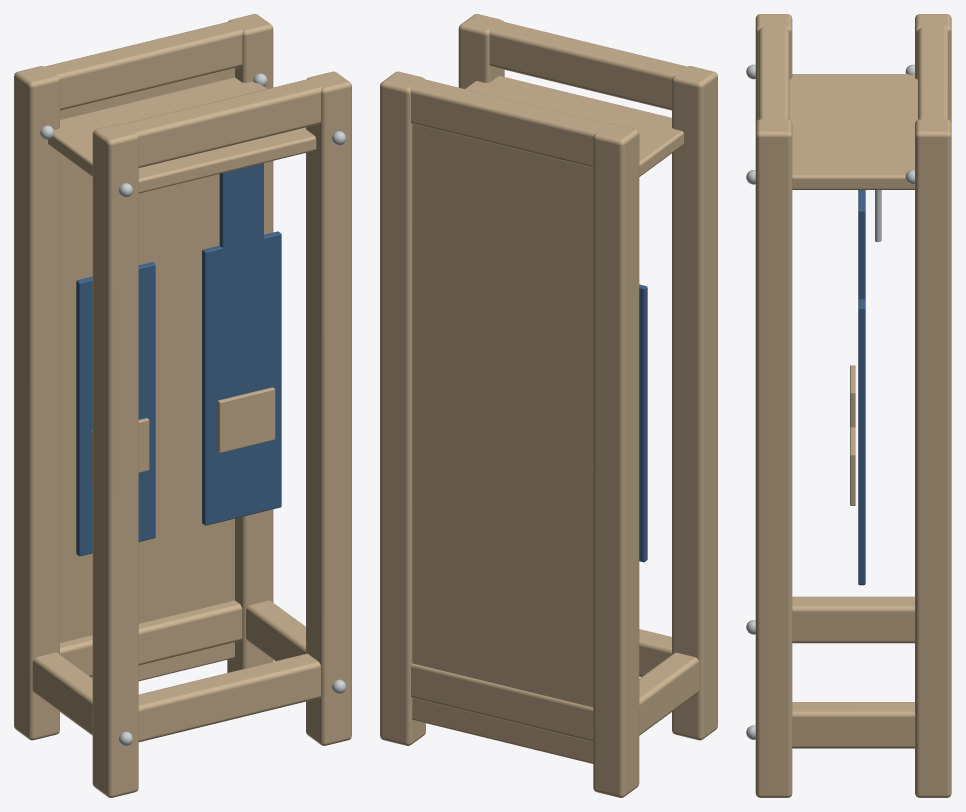
The model's file is textile-weaving-and-dye-workshop-apron-locker-bdee3117__29575.glb.
3 views of the same model, side by side, from view 1: azimuth 30°, elevation 25°; view 2: azimuth 150°, elevation 25°; view 3: azimuth 270°, elevation 25° (orthographic).
Visible parts, largest first — view 1: apron-locker; view 2: apron-locker; view 3: apron-locker.
Boxes of the visible parts, x1,y1,x2,y2 form: apron-locker: (14, 14, 351, 797); apron-locker: (380, 14, 717, 797); apron-locker: (746, 14, 951, 797).
Size of the model in its own units: 0.6999 by 1.8 by 0.503.
